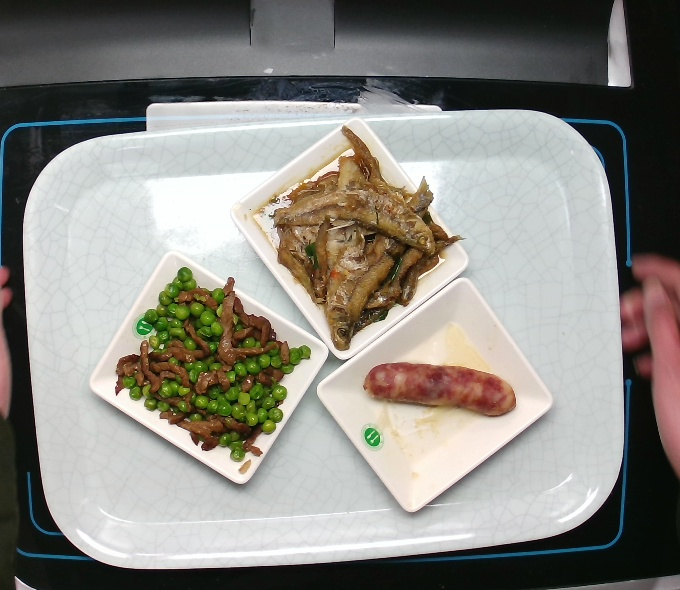wcq-CanDouNiuRou: (109, 265, 316, 465)
wcq-XiangChang: (358, 359, 526, 427)
wcq-XiaoJiYu: (263, 124, 458, 356)
